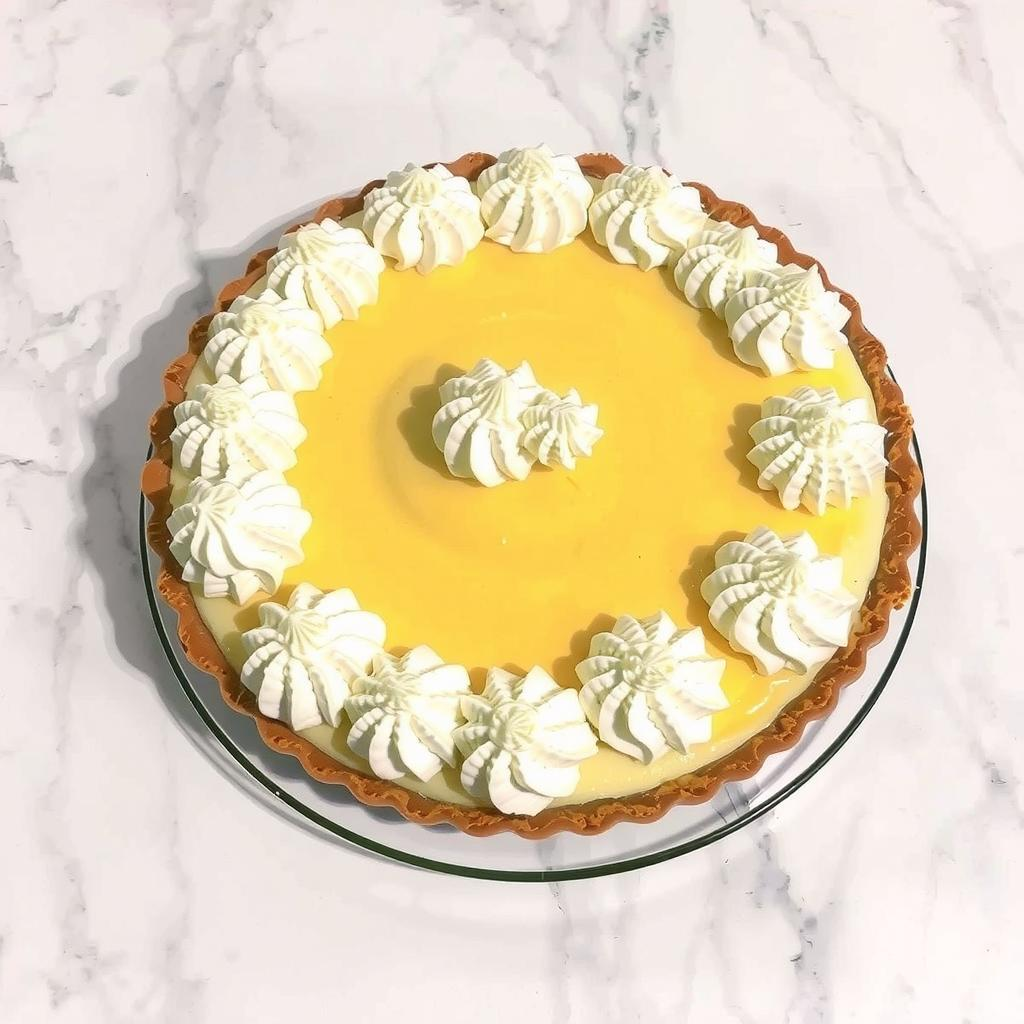pie: (134, 133, 927, 843)
